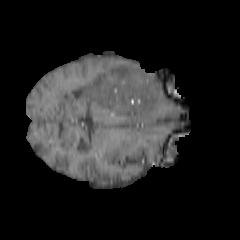glioma: (83, 62, 161, 117)
